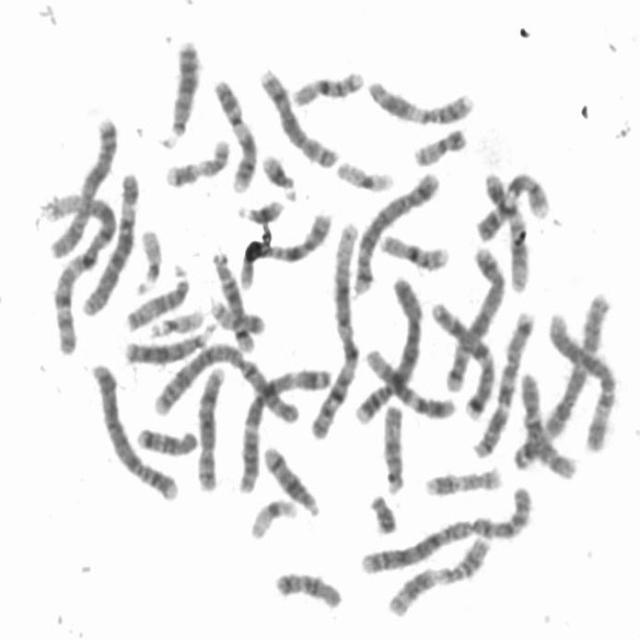A1: (306, 214, 364, 442), (45, 189, 120, 358)
A2: (357, 480, 540, 578), (143, 336, 304, 427)
A3: (508, 288, 618, 472), (235, 359, 334, 497)
B4: (86, 357, 180, 503), (352, 273, 424, 427)
B5: (348, 166, 441, 297), (441, 242, 508, 394)
C10: (236, 207, 335, 290), (518, 368, 579, 482)
C11: (382, 530, 494, 620), (363, 73, 478, 127)
C12: (362, 342, 460, 422), (479, 165, 533, 294)
C6: (544, 305, 622, 453), (78, 167, 142, 320)
C7: (471, 307, 538, 459), (426, 294, 498, 420)
C8: (256, 63, 343, 170), (192, 360, 230, 493)
C9: (472, 167, 554, 243), (210, 75, 260, 194)
D13: (122, 320, 218, 366), (164, 33, 203, 140)
D14: (208, 248, 257, 354), (259, 438, 322, 519)
D15: (120, 260, 192, 333), (379, 398, 407, 496)
E16: (288, 64, 367, 108), (376, 228, 452, 272)
E17: (160, 133, 232, 189), (419, 460, 505, 499)
E18: (271, 565, 345, 611), (133, 421, 200, 458)
F19: (246, 493, 300, 542), (331, 155, 396, 194)
F20: (409, 122, 470, 168), (206, 297, 265, 336)
G21: (258, 147, 300, 202), (233, 193, 286, 226)
G22: (132, 222, 165, 296), (145, 303, 206, 339)
X: (44, 112, 121, 262)
Y: (366, 488, 400, 536)
